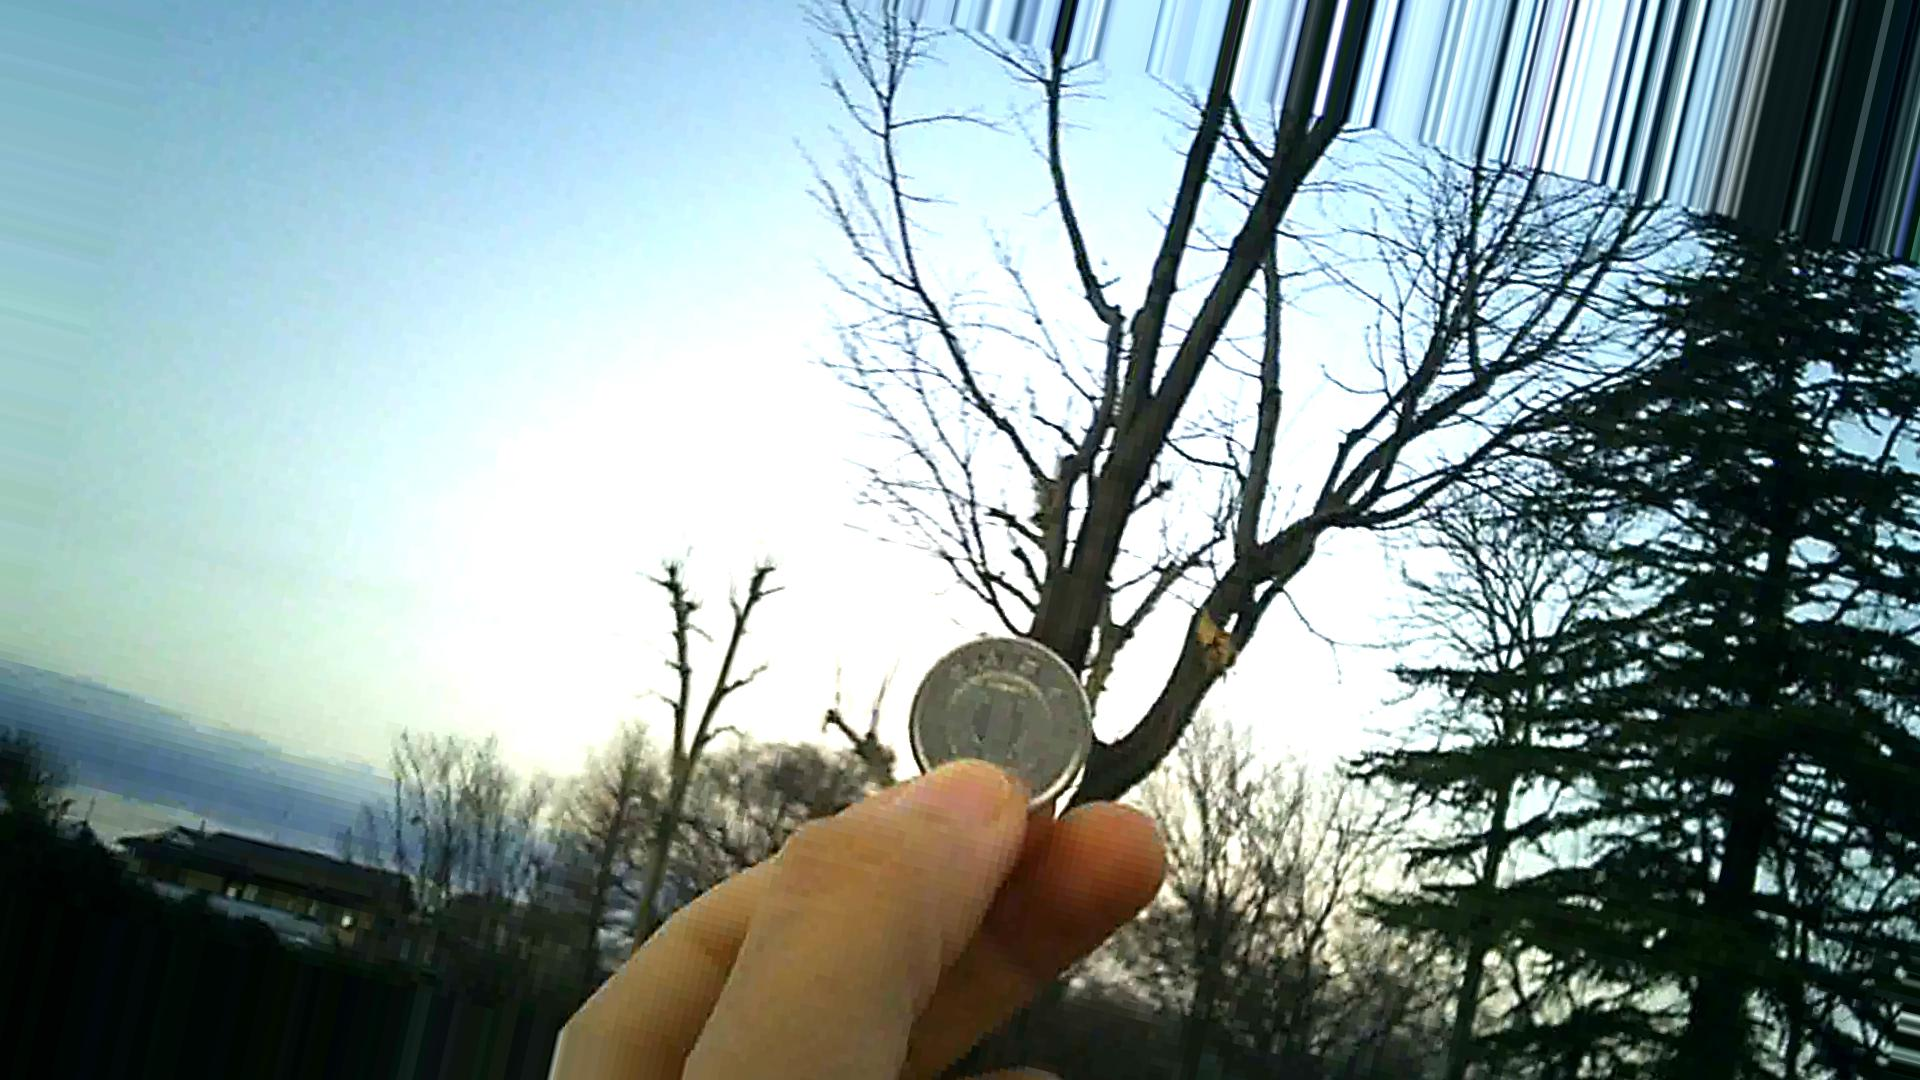1 Yen: (897, 625, 1098, 815)
